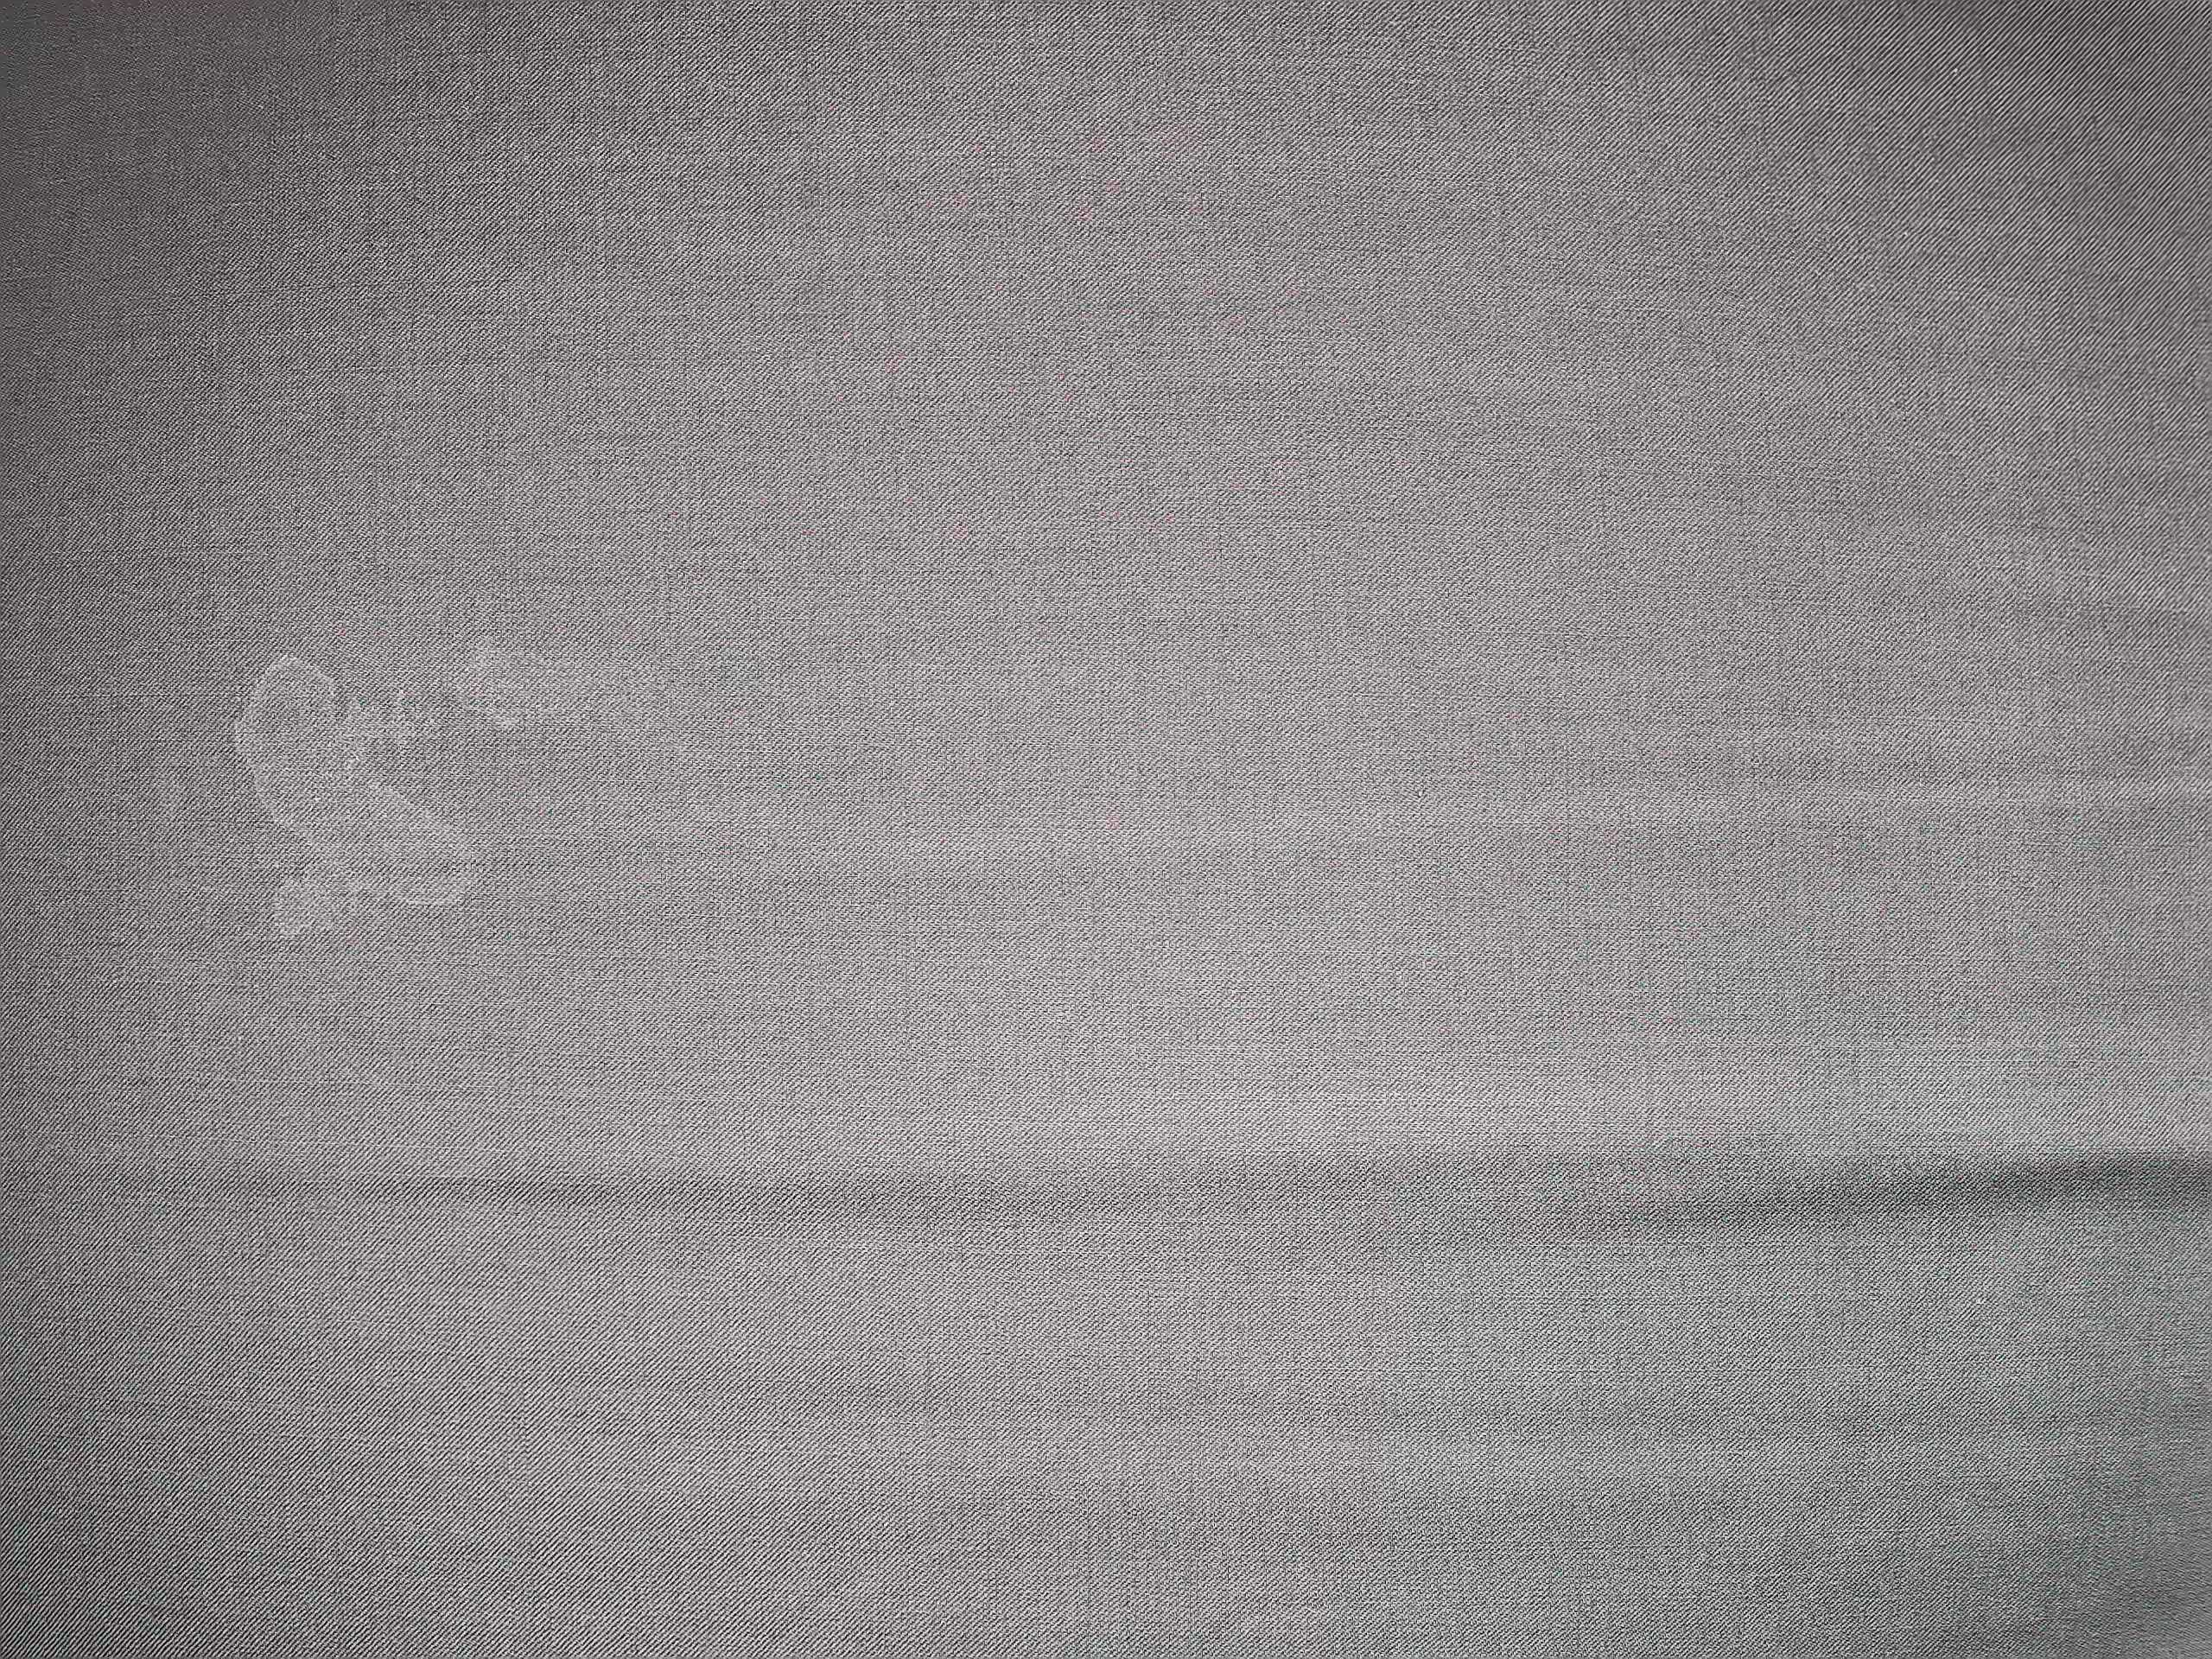stains: (202, 591, 667, 971)
